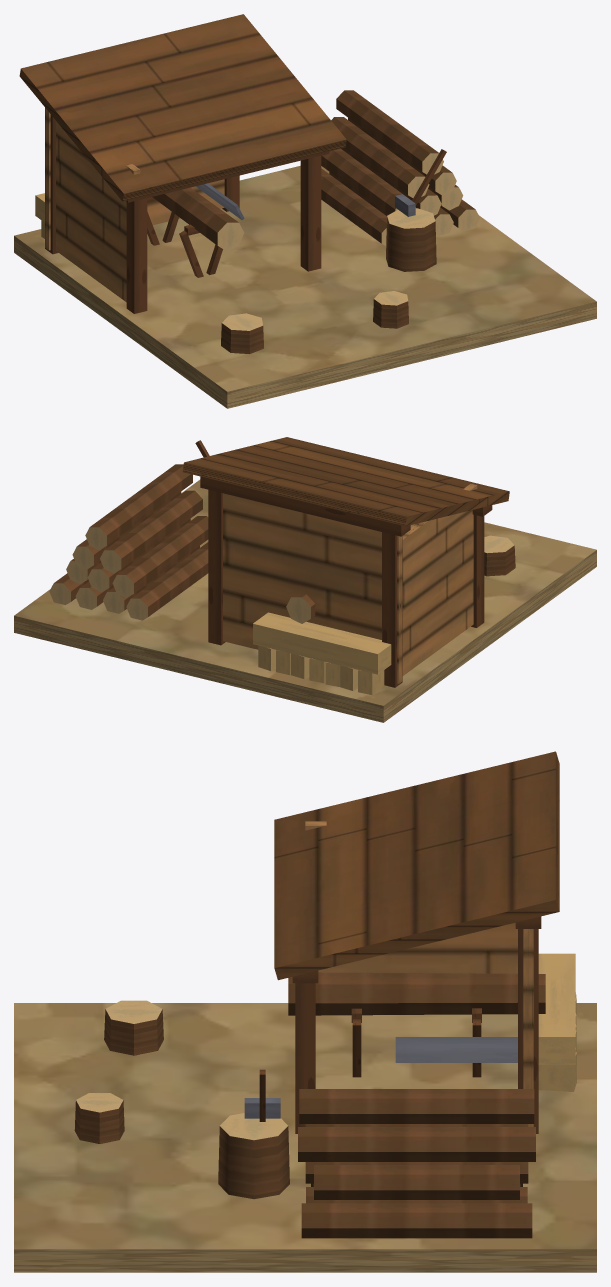
Rendered from lumber.glb.
The picture shows the model from 3 angles, top to bottom: view 1: azimuth 30°, elevation 25°; view 2: azimuth 150°, elevation 25°; view 3: azimuth 270°, elevation 25°; orthographic projection. The views are drawn at different scales.
Visible parts, largest first — view 1: lumber; view 2: lumber; view 3: lumber.
Boxes of the visible parts, box(x1,y1,x2,y2) form: lumber: box(14, 14, 596, 408); lumber: box(14, 437, 596, 722); lumber: box(14, 751, 596, 1272).
Bounding box in the file's own units: 6.95 × 3.47 × 6.8.
3 materials, 3 textured.
